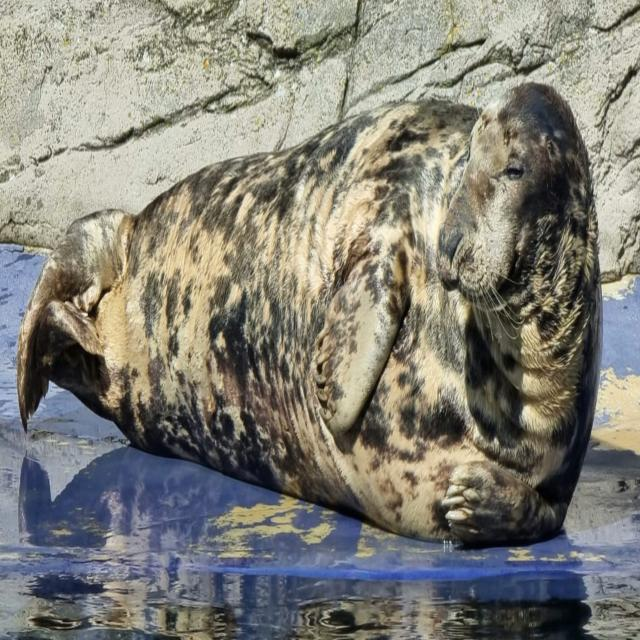shark: (17, 83, 602, 545)
